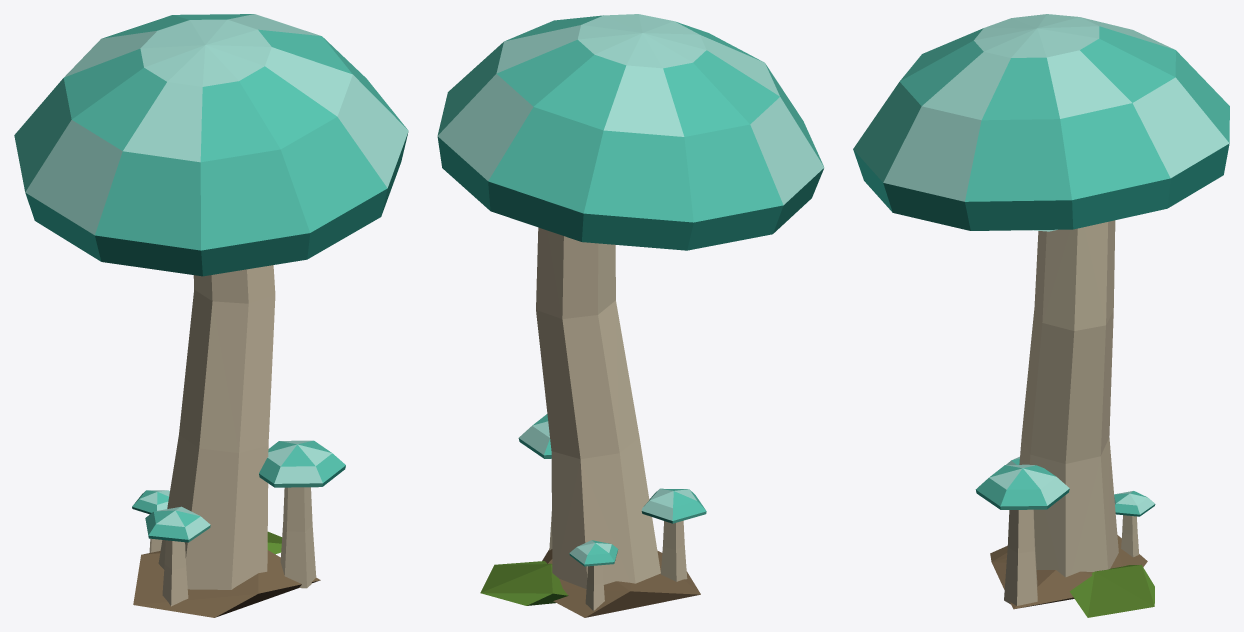
Rendered from glow_mushroom_big.glb.
3 renders of one model, left to right at view 1: azimuth 30°, elevation 25°; view 2: azimuth 150°, elevation 25°; view 3: azimuth 270°, elevation 25°, orthographic. The views are drawn at different scales.
Parts seen in each view (by area): view 1: glow_mushroom_big; view 2: glow_mushroom_big; view 3: glow_mushroom_big.
Boxes of the visible parts, <box> form: glow_mushroom_big: <box>14,14,408,617</box>; glow_mushroom_big: <box>437,14,824,617</box>; glow_mushroom_big: <box>853,14,1229,617</box>.
Size of the model in its own units: 0.8875 by 1.37 by 0.88.
